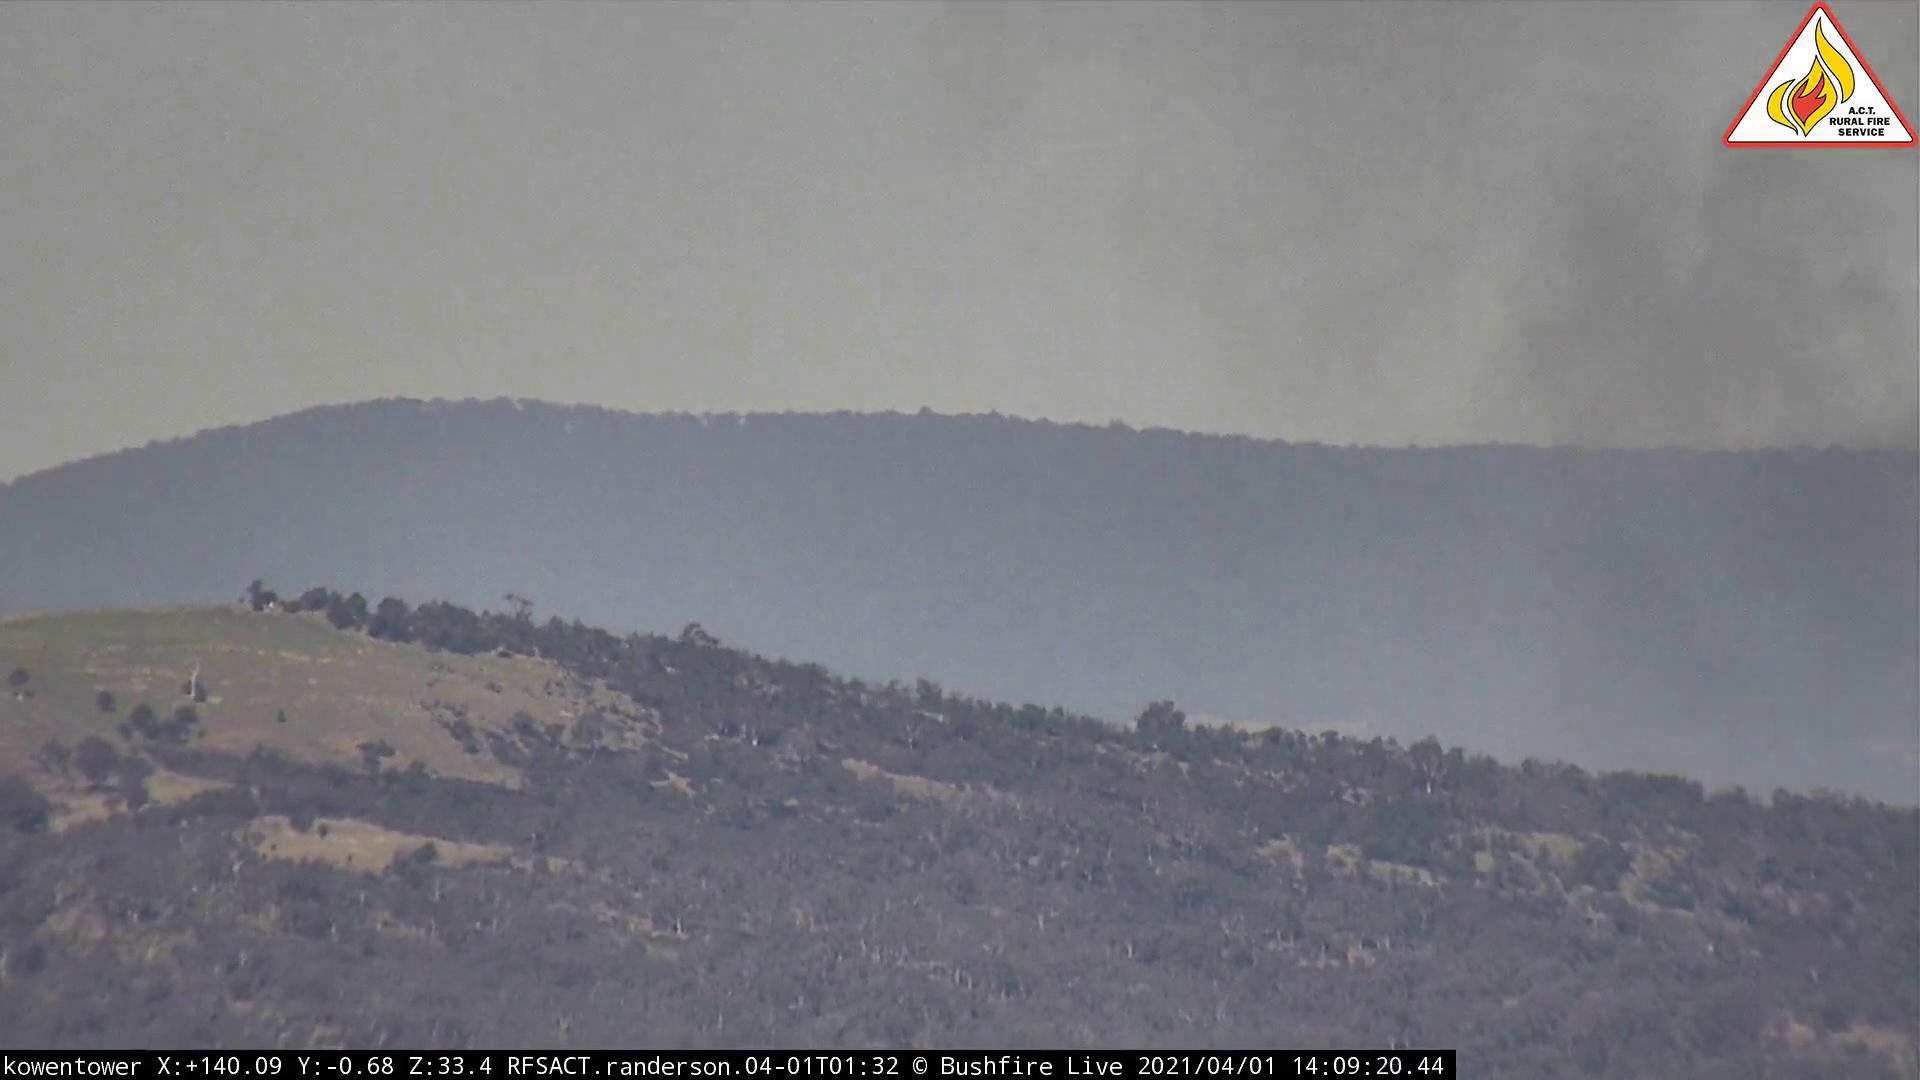instance_salient_object: (1135, 196, 1920, 767)
